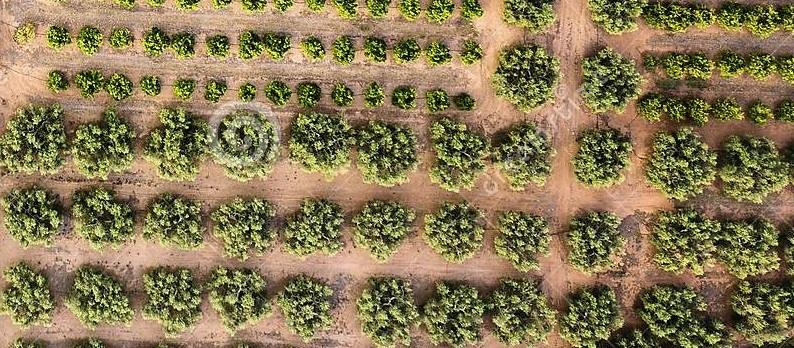TREE: (141, 106, 216, 183), (645, 125, 718, 201), (64, 109, 138, 182), (207, 108, 280, 182), (490, 43, 565, 113), (716, 135, 790, 205), (286, 110, 358, 181), (205, 265, 274, 338), (649, 207, 722, 276), (61, 264, 136, 331), (427, 117, 492, 194), (1, 104, 70, 176), (490, 120, 558, 193), (486, 278, 559, 346), (209, 194, 278, 262), (578, 45, 647, 113), (355, 119, 422, 188), (356, 276, 419, 348), (139, 267, 202, 338), (421, 279, 485, 348), (71, 184, 137, 250), (350, 198, 416, 264), (421, 199, 488, 264), (564, 210, 628, 278), (558, 284, 625, 348), (716, 215, 781, 280), (1, 184, 65, 250), (729, 280, 792, 347), (275, 274, 335, 344), (281, 196, 345, 258), (140, 192, 207, 250), (568, 130, 633, 189), (1, 262, 57, 330), (637, 284, 698, 337), (588, 1, 648, 35), (502, 1, 557, 34), (641, 1, 695, 33), (674, 317, 728, 348), (744, 1, 783, 38), (72, 67, 106, 100), (713, 1, 747, 32), (635, 93, 668, 122), (746, 53, 778, 81), (715, 51, 748, 78), (104, 72, 134, 101), (142, 26, 170, 57), (237, 30, 265, 60), (712, 98, 744, 123), (264, 80, 292, 108), (76, 26, 103, 55), (688, 3, 717, 30), (424, 1, 455, 26), (263, 32, 291, 59), (393, 38, 421, 65), (688, 53, 716, 80), (422, 41, 452, 66), (169, 32, 196, 59), (45, 26, 73, 52), (458, 38, 484, 66), (663, 51, 689, 79), (687, 97, 712, 126), (363, 36, 388, 64), (332, 35, 355, 65), (294, 82, 321, 107), (205, 33, 231, 58), (301, 36, 326, 62), (392, 85, 417, 111), (363, 81, 387, 108), (425, 88, 450, 113), (663, 96, 687, 122), (12, 21, 38, 44), (108, 27, 135, 49), (203, 79, 227, 103), (329, 84, 354, 107), (749, 102, 776, 123), (46, 70, 70, 93), (172, 78, 196, 101), (396, 1, 422, 22), (332, 1, 358, 20), (776, 57, 794, 84), (366, 1, 392, 19), (139, 75, 161, 96), (780, 2, 794, 34), (451, 93, 475, 111), (459, 1, 483, 19), (237, 83, 257, 104), (776, 100, 794, 123), (643, 51, 662, 71), (241, 1, 267, 13), (273, 1, 294, 13), (306, 1, 326, 13), (176, 1, 200, 11)
